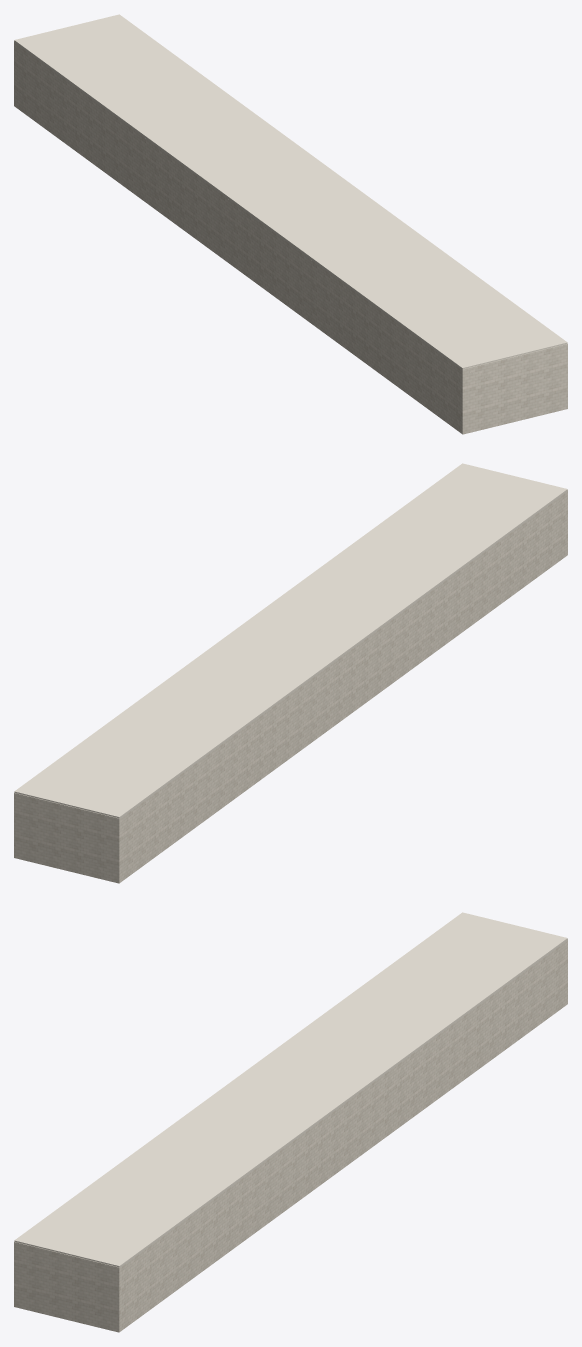
File: masa.glb
3 renders of one model, top to bottom at view 1: azimuth 30°, elevation 25°; view 2: azimuth 150°, elevation 25°; view 3: azimuth 330°, elevation 25°, orthographic.
Parts seen in each view (by area): view 1: masa_LOD0; view 2: masa_LOD0; view 3: masa_LOD0.
Part boxes in pixels (<box>): masa_LOD0: <box>14,14,567,434</box>; masa_LOD0: <box>14,463,567,883</box>; masa_LOD0: <box>14,912,567,1332</box>.
Size of what is drawn, in the model's own units: 21 by 12.87 by 155.
14 materials, 5 textured.
